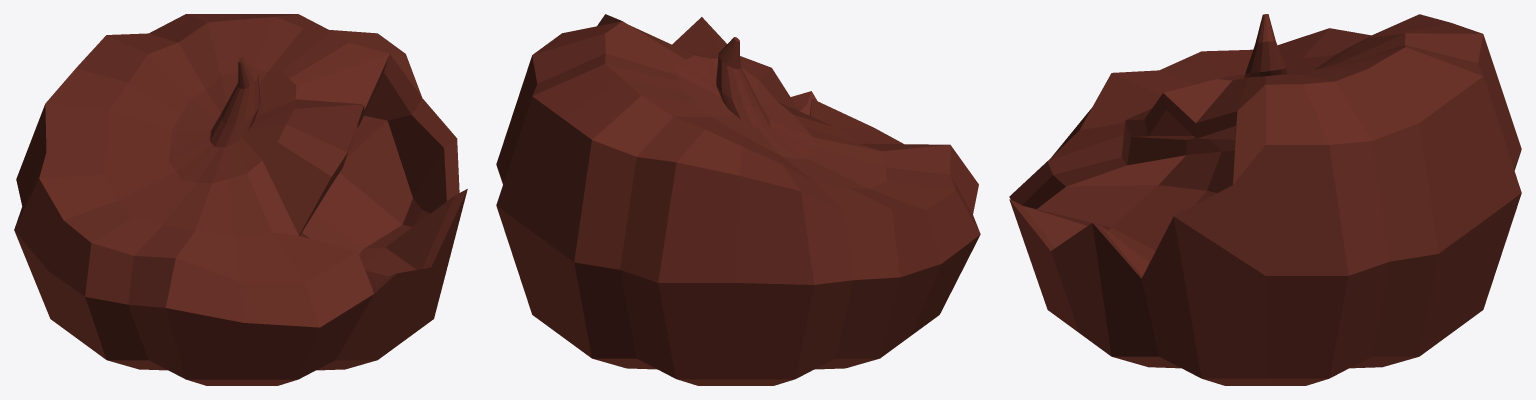
File: BrokenPumpkin005.fbx
3 renders of one model, left to right at view 1: azimuth 30°, elevation 25°; view 2: azimuth 150°, elevation 25°; view 3: azimuth 270°, elevation 25°, orthographic. The views are drawn at different scales.
Visible parts, largest first — view 1: BrokenPumpkin005; view 2: BrokenPumpkin005; view 3: BrokenPumpkin005.
Part boxes in pixels (x1,y1,x2,y2): BrokenPumpkin005: [14, 14, 467, 385]; BrokenPumpkin005: [496, 14, 980, 385]; BrokenPumpkin005: [1009, 14, 1521, 385].
Size of the model in its own units: 87.71 by 59.94 by 89.54.
